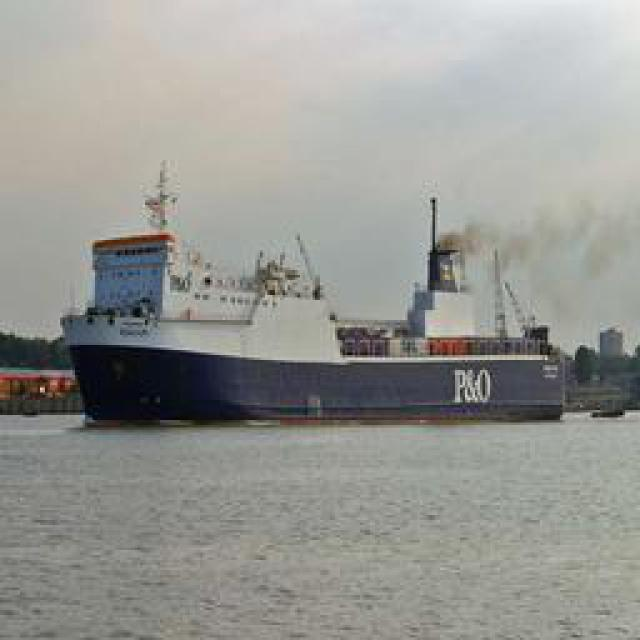Ship: (61, 175, 584, 425)
